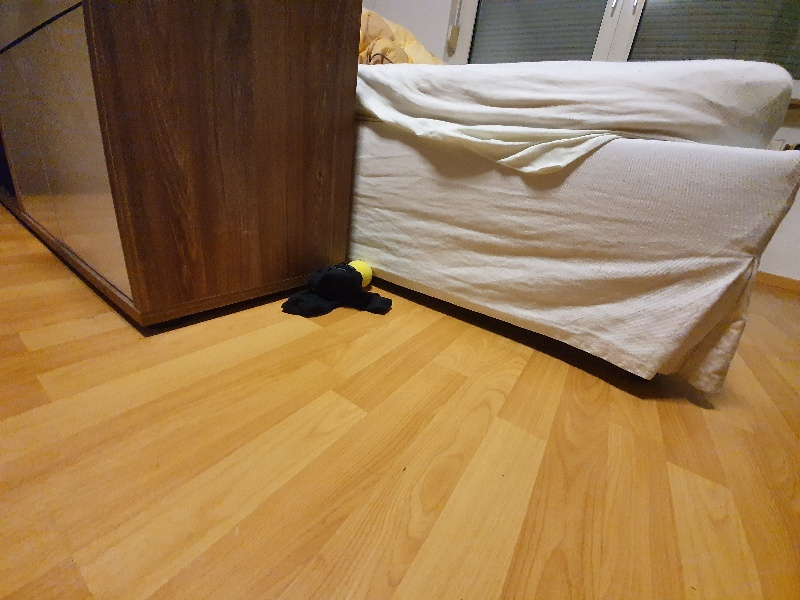Tennisball: (345, 254, 378, 293)
